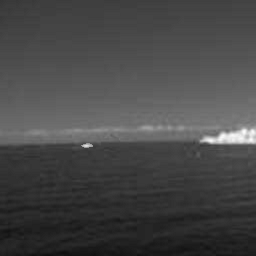Target: (81, 142, 94, 149)
